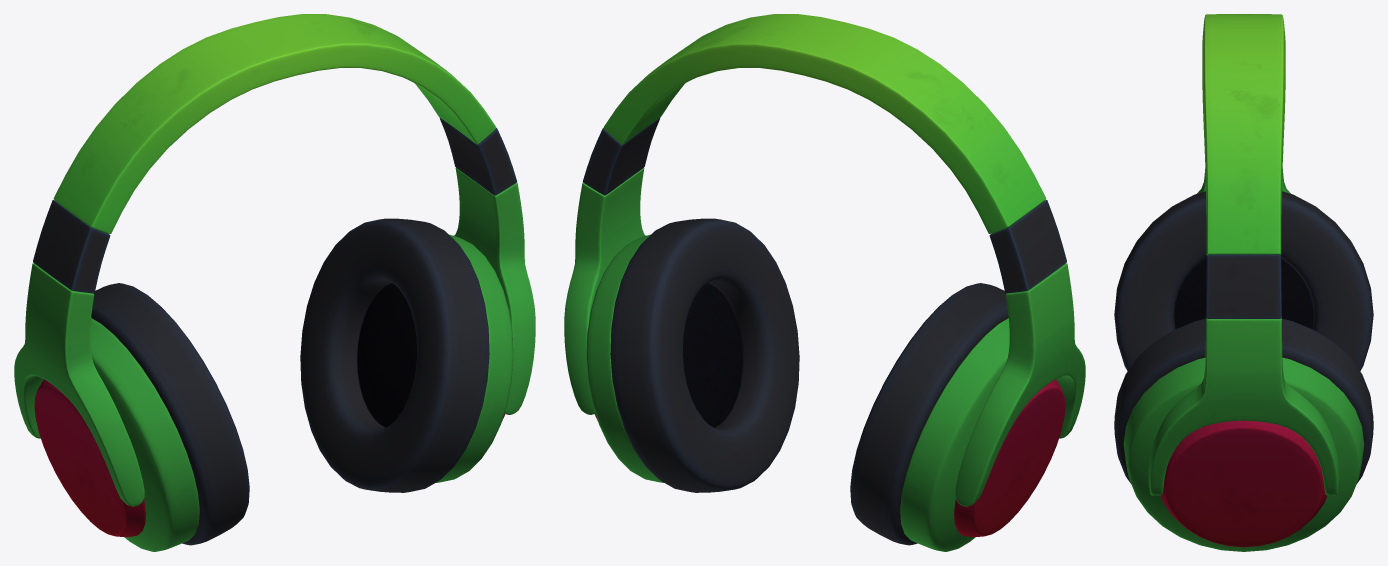
Rendered from headphonesHighpoly.glb.
3 views of the same model, side by side, from view 1: azimuth 30°, elevation 25°; view 2: azimuth 150°, elevation 25°; view 3: azimuth 270°, elevation 25° (orthographic). The views are drawn at different scales.
Visible parts, largest first — view 1: Headphones_006_high, Headphones_001_high, Headphones_003_high, Headphones_005_high, Headphones_004_high, Headphones_002_high; view 2: Headphones_006_high, Headphones_001_high, Headphones_003_high, Headphones_005_high, Headphones_004_high, Headphones_002_high; view 3: Headphones_006_high, Headphones_001_high, Headphones_004_high, Headphones_003_high, Headphones_005_high, Headphones_002_high.
Boxes of the visible parts, x1,y1,x2,y2 form: Headphones_006_high: (91, 218, 489, 545); Headphones_001_high: (53, 14, 496, 233); Headphones_003_high: (14, 168, 535, 506); Headphones_005_high: (90, 234, 513, 551); Headphones_004_high: (34, 379, 505, 536); Headphones_002_high: (33, 118, 517, 293); Headphones_006_high: (610, 218, 1008, 545); Headphones_001_high: (603, 14, 1046, 233); Headphones_003_high: (564, 168, 1085, 506); Headphones_005_high: (586, 234, 1009, 551); Headphones_004_high: (594, 379, 1065, 536); Headphones_002_high: (582, 118, 1066, 293); Headphones_006_high: (1114, 191, 1373, 483); Headphones_001_high: (1202, 14, 1285, 255); Headphones_004_high: (1160, 420, 1327, 547); Headphones_003_high: (1148, 169, 1339, 495); Headphones_005_high: (1123, 357, 1364, 551); Headphones_002_high: (1206, 254, 1281, 318).
Bounding box in the file's own units: 0.0143 × 0.014 × 0.00737.
Materials: 1 (1 with a texture image).
